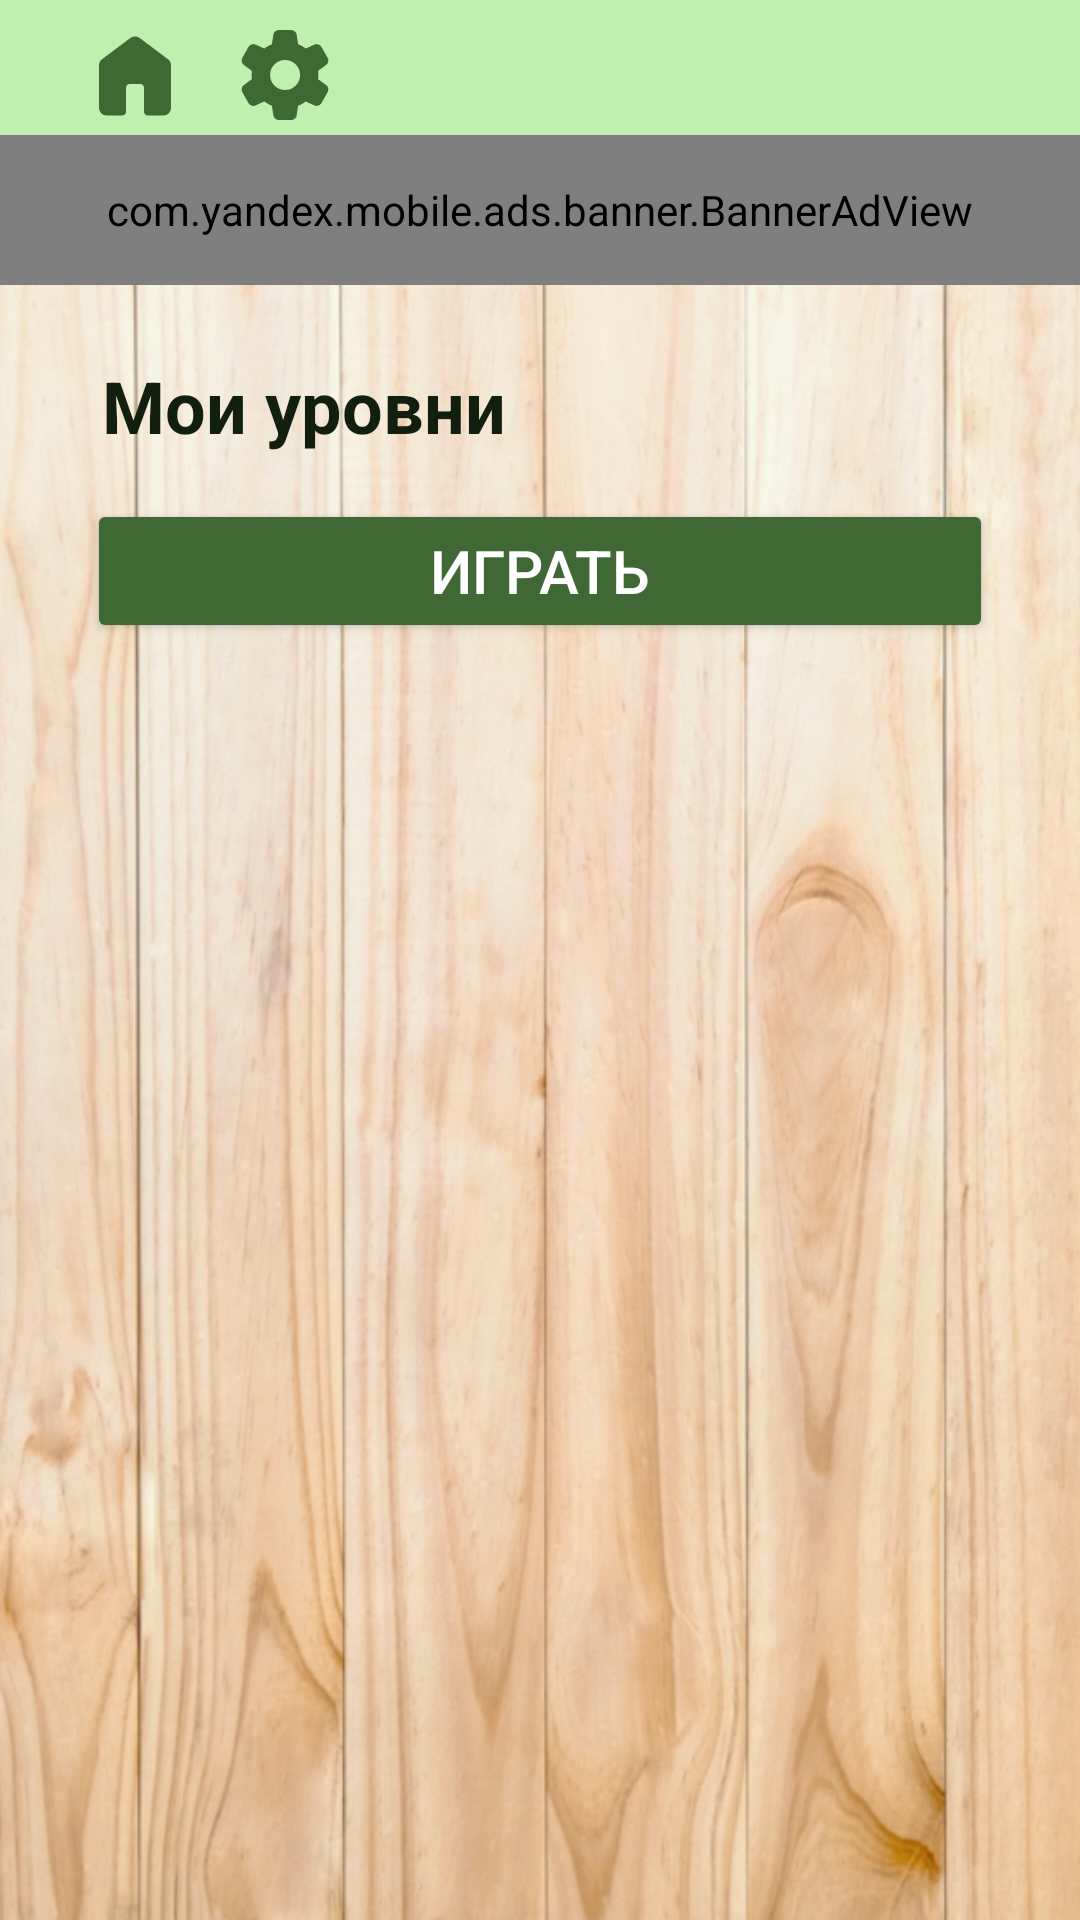

Screen size 1080x1920. Icon name, then its box in pixels as (x1, y1, x2, y2):
home: (99, 36, 171, 116)
settings: (241, 30, 329, 120)
